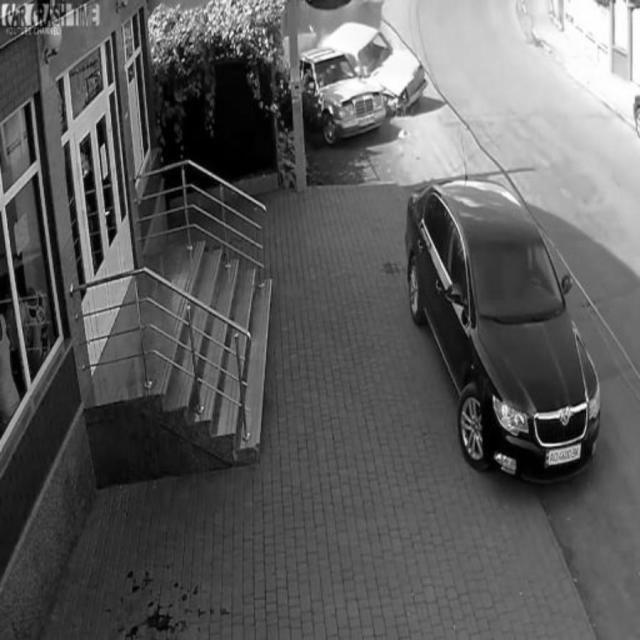accident: (298, 24, 424, 137)
vehicle: (404, 184, 604, 498)
